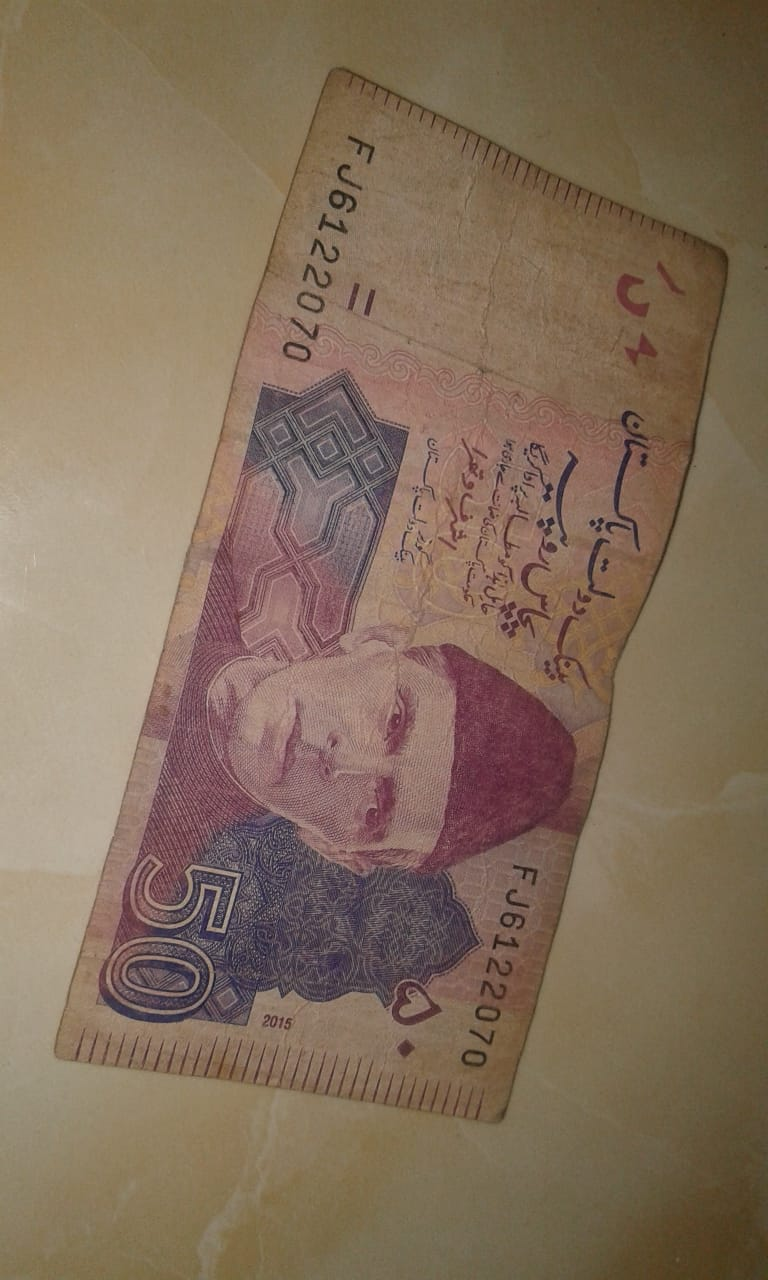50 rupee: (49, 54, 743, 1155)
